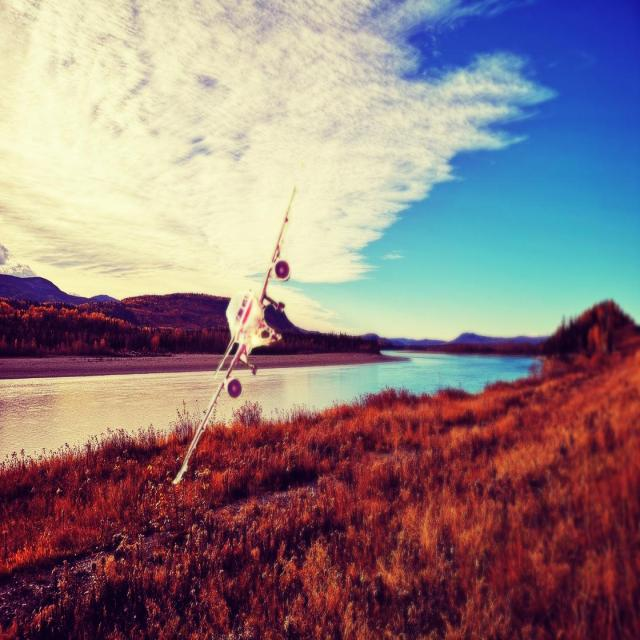airplane: (173, 184, 297, 484)
